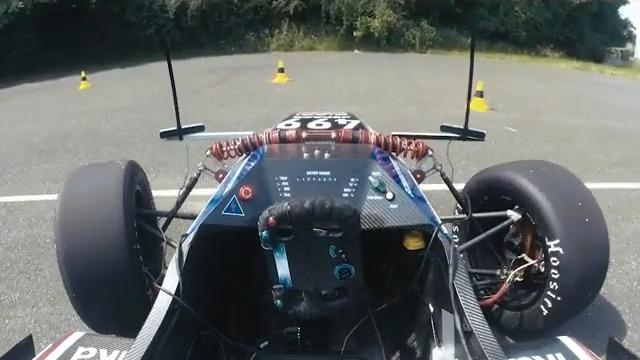yellow_cone: (466, 82, 491, 112), (273, 59, 292, 84), (79, 71, 93, 89)
